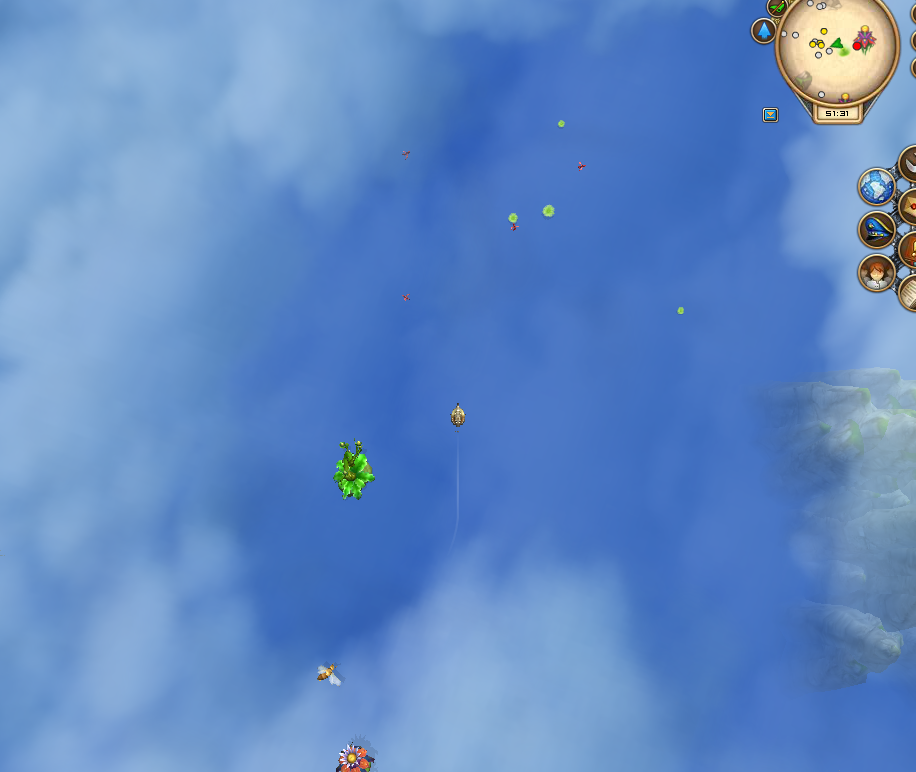dandelion-empty: (329, 436, 377, 505)
fluff: (539, 200, 558, 223), (553, 115, 569, 131), (673, 301, 688, 318), (506, 210, 521, 225)
